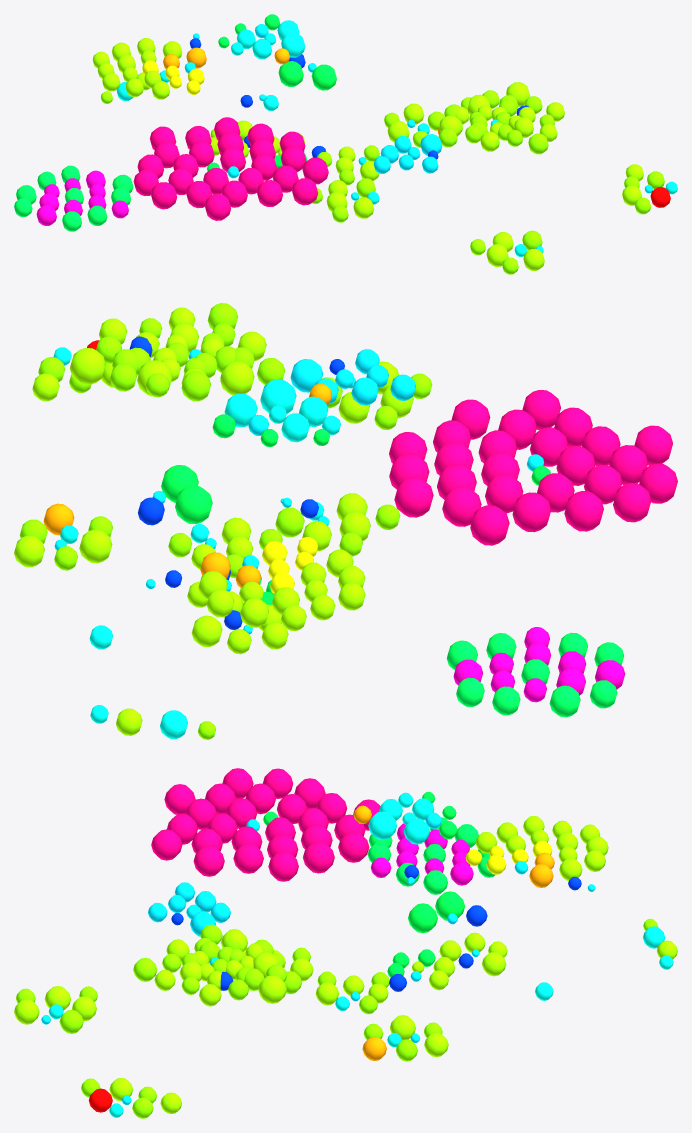
File: task-77ed9e215-layout.gltf
3 views of the same model, one above another, from view 1: azimuth 30°, elevation 25°; view 2: azimuth 150°, elevation 25°; view 3: azimuth 270°, elevation 25° (orthographic). The views are drawn at different scales.
Parts seen in each view (by area): view 1: normal_po_files, normal_c_files, normal_h_files, normal_no_ext_files, normal_parsed_files, normal_jpg_files, normal_in_files, normal_m4_files, normal_gitignore_files, normal_sh_files, diff_changed_files, normal_am_files; view 2: normal_po_files, normal_c_files, normal_h_files, normal_no_ext_files, normal_parsed_files, normal_jpg_files, normal_in_files, normal_m4_files, diff_changed_files, normal_am_files, normal_gitignore_files, normal_sh_files; view 3: normal_po_files, normal_c_files, normal_h_files, normal_no_ext_files, normal_in_files, normal_parsed_files, normal_jpg_files, normal_m4_files, normal_am_files, diff_changed_files, normal_gitignore_files, normal_sh_files.
Part boxes in pixels (x1,y1,x2,y2): normal_po_files: (133, 117, 328, 220); normal_c_files: (92, 38, 643, 270); normal_h_files: (101, 90, 664, 274); normal_no_ext_files: (116, 20, 677, 256); normal_parsed_files: (14, 165, 133, 231); normal_jpg_files: (36, 170, 128, 225); normal_in_files: (207, 14, 336, 170); normal_m4_files: (373, 134, 442, 173); normal_gitignore_files: (184, 24, 652, 252); normal_sh_files: (142, 60, 204, 94); diff_changed_files: (163, 47, 457, 136); normal_am_files: (189, 38, 528, 159); normal_po_files: (389, 390, 677, 545); normal_c_files: (14, 307, 413, 735); normal_h_files: (19, 303, 432, 739); normal_no_ext_files: (53, 347, 340, 739); normal_parsed_files: (446, 632, 623, 717); normal_jpg_files: (453, 627, 625, 702); normal_in_files: (161, 414, 550, 604); normal_m4_files: (290, 349, 415, 405); diff_changed_files: (43, 383, 332, 588); normal_am_files: (129, 336, 344, 629); normal_gitignore_files: (54, 349, 544, 634); normal_sh_files: (262, 537, 318, 593); normal_po_files: (151, 768, 380, 881); normal_c_files: (14, 816, 677, 1114); normal_h_files: (16, 918, 657, 1118); normal_no_ext_files: (48, 792, 673, 1117); normal_in_files: (263, 791, 464, 977); normal_parsed_files: (367, 817, 495, 894); normal_jpg_files: (370, 823, 473, 885); normal_m4_files: (148, 882, 230, 936); normal_am_files: (171, 865, 581, 991); diff_changed_files: (353, 805, 554, 1060); normal_gitignore_files: (41, 812, 595, 1104); normal_sh_files: (465, 840, 552, 874).
Size of the model in its own units: 76.25 by 20.08 by 73.76.
